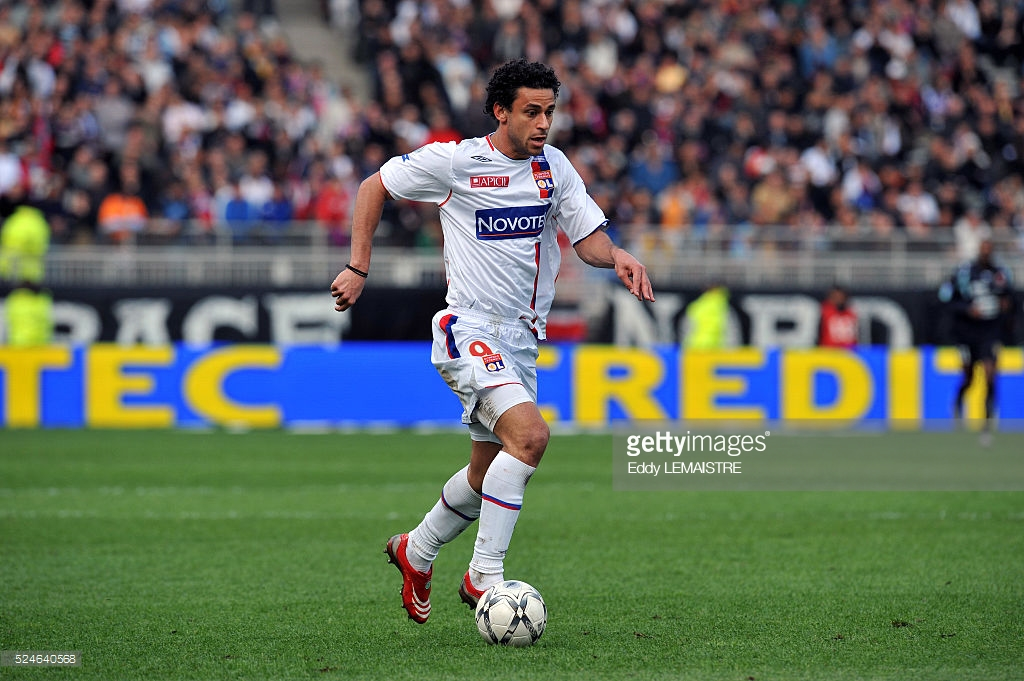soccer player: (321, 56, 661, 618)
soccerball: (472, 578, 551, 652)
